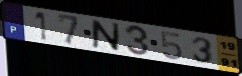1: (34, 11, 49, 42)
3: (123, 25, 151, 57), (189, 37, 214, 65)
5: (160, 30, 184, 61)
7: (56, 13, 81, 47)
N: (91, 19, 121, 54)
